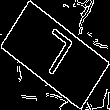L_SW: (31, 26, 79, 84)
